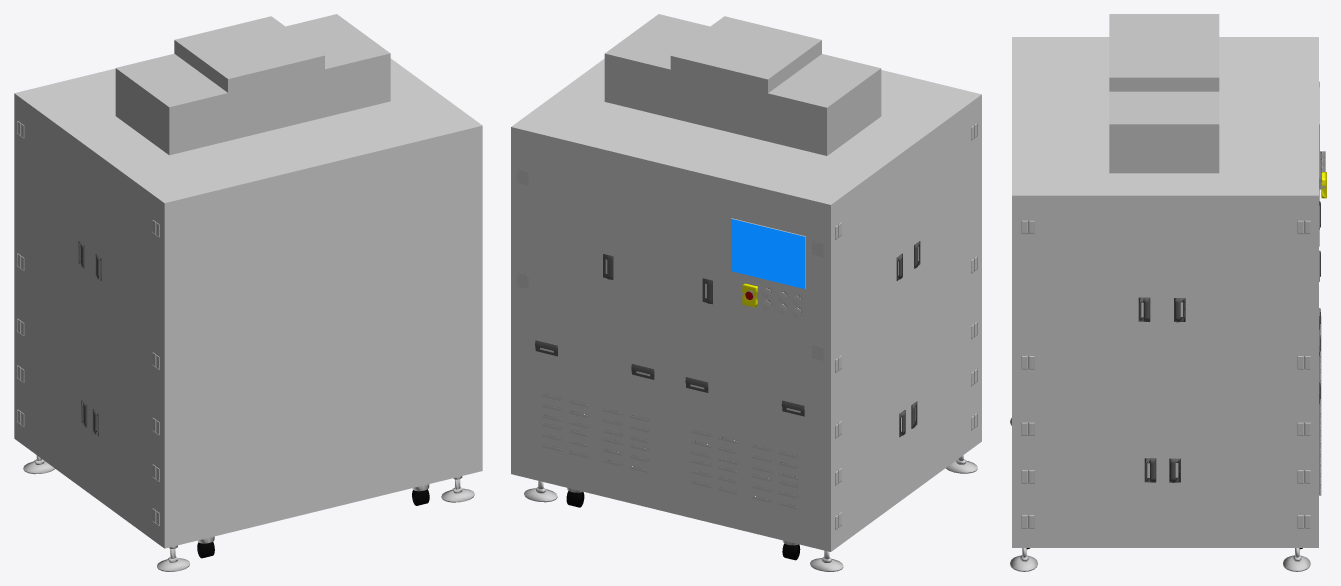
The picture shows the model from 3 angles, left to right: view 1: azimuth 30°, elevation 25°; view 2: azimuth 150°, elevation 25°; view 3: azimuth 270°, elevation 25°; orthographic projection. The views are drawn at different scales.
Parts seen in each view (by area): view 1: lf650; view 2: lf650; view 3: lf650.
Boxes of the visible parts, bbox=[...] form: lf650: bbox=[14, 14, 482, 571]; lf650: bbox=[511, 14, 981, 571]; lf650: bbox=[1010, 14, 1326, 571].
Size of the model in its own units: 295 by 380 by 247.
